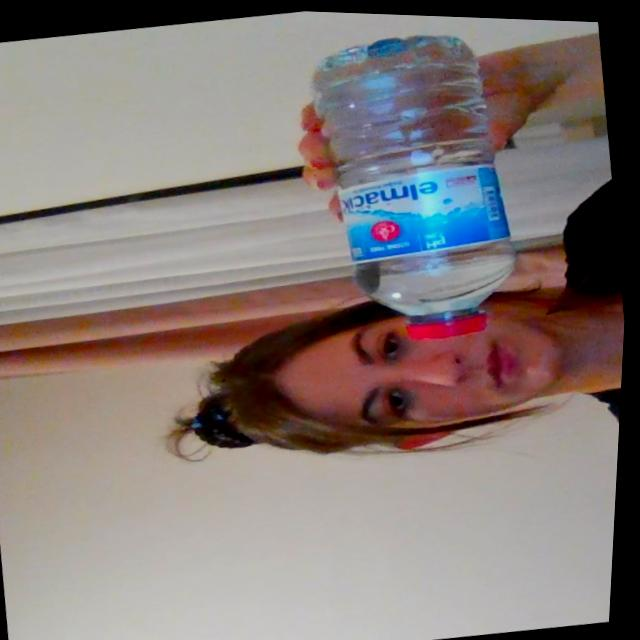anorganik: (300, 11, 528, 335)
